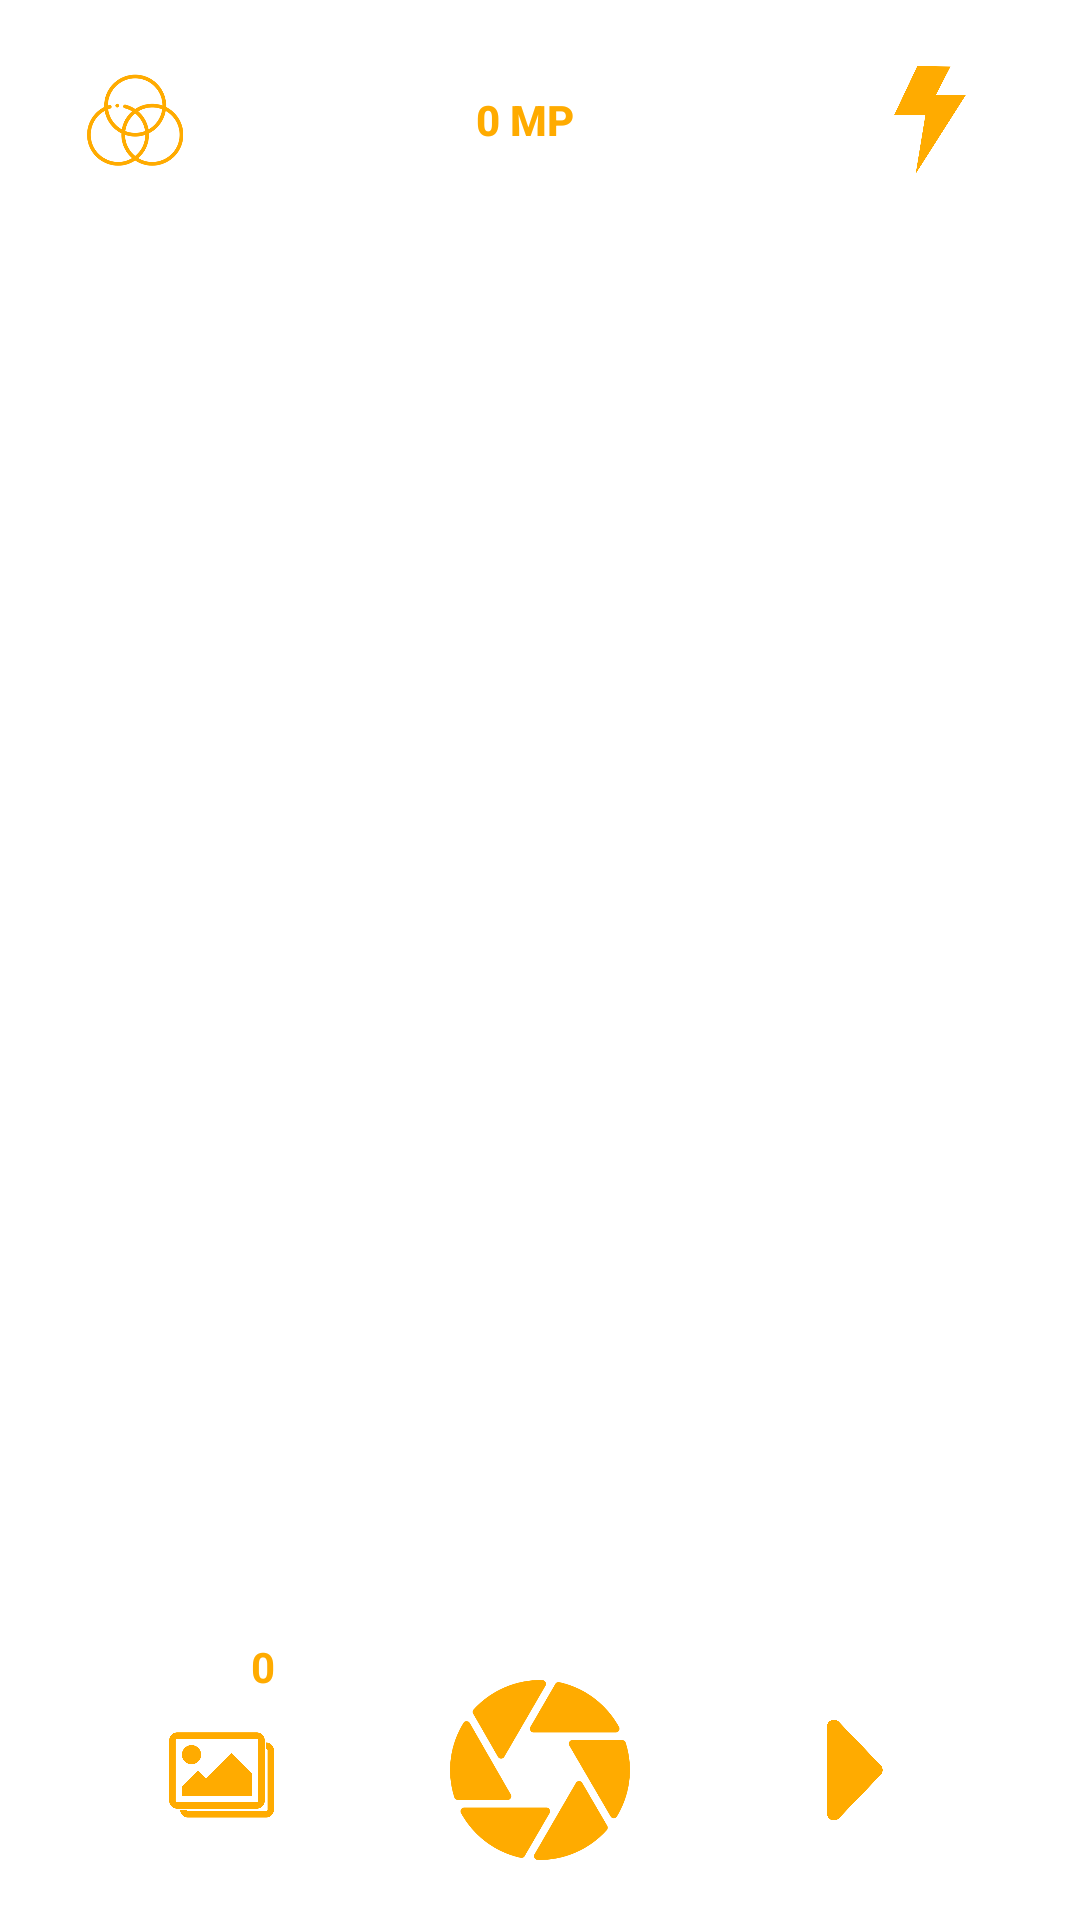

Named icons in this screenshot (1080 x 1920) and their bounding boxes, region(x1, y1, x2, y2):
filteric: region(87, 74, 183, 166)
flashic: region(894, 66, 966, 173)
galleryic: region(169, 1732, 274, 1818)
nextic: region(827, 1720, 883, 1820)
shutteric: region(450, 1680, 630, 1860)
